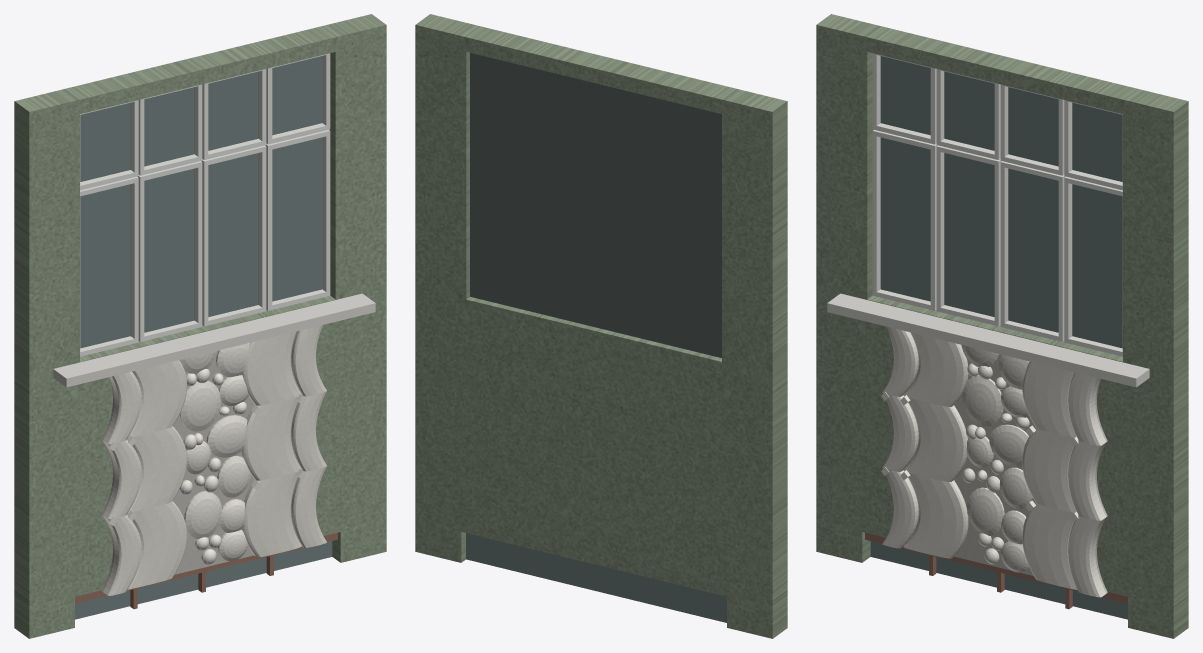
File: petain-spandrel-near.glb
The picture shows the model from 3 angles, left to right: view 1: azimuth 30°, elevation 25°; view 2: azimuth 150°, elevation 25°; view 3: azimuth 330°, elevation 25°; orthographic projection.
Visible parts, largest first — view 1: 贝当公寓临街窗下圆珠与弧带浮饰（2013年外观）; view 2: 贝当公寓临街窗下圆珠与弧带浮饰（2013年外观）; view 3: 贝当公寓临街窗下圆珠与弧带浮饰（2013年外观）.
Part boxes in pixels (left/top/right/bottom): 贝当公寓临街窗下圆珠与弧带浮饰（2013年外观）: left=14, top=14, right=386, bottom=638; 贝当公寓临街窗下圆珠与弧带浮饰（2013年外观）: left=415, top=14, right=787, bottom=638; 贝当公寓临街窗下圆珠与弧带浮饰（2013年外观）: left=816, top=14, right=1188, bottom=638.
Size of the model in its own units: 3.2 by 4.51 by 0.4355.
Materials: 8 (3 with a texture image).
